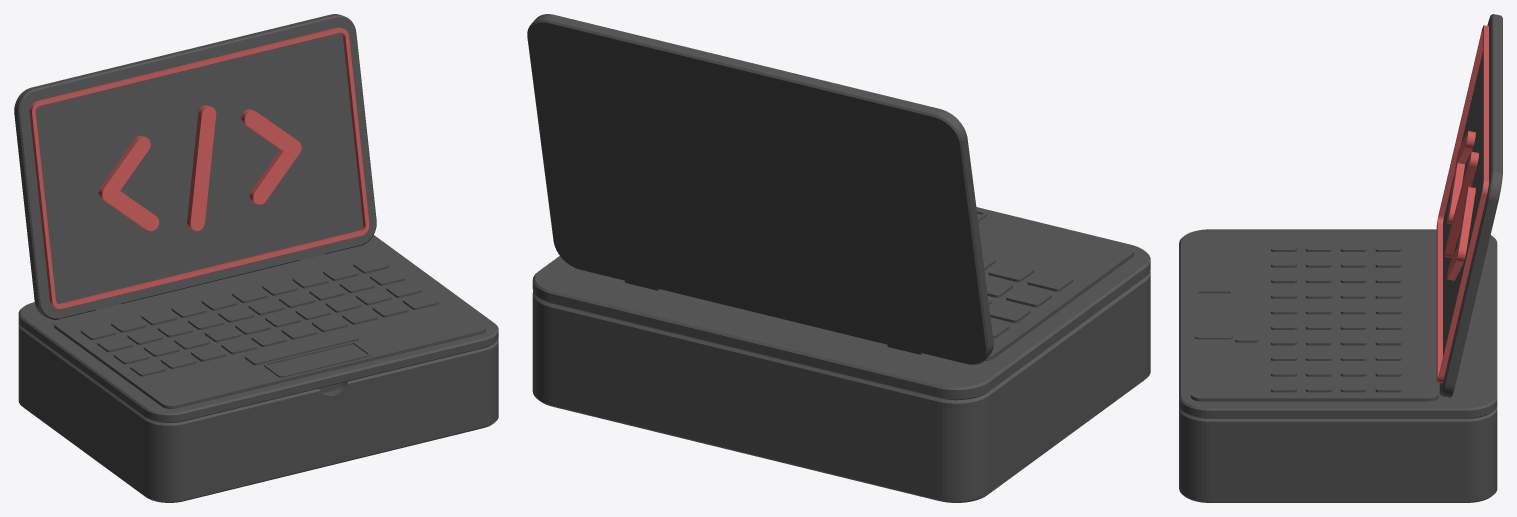
File: informatica-montato.glb
The picture shows the model from 3 angles, left to right: view 1: azimuth 30°, elevation 25°; view 2: azimuth 150°, elevation 25°; view 3: azimuth 270°, elevation 25°; orthographic projection. The views are drawn at different scales.
Visible parts, largest first — view 1: 03_schermo, 02b_placca_tastiera, 01_vaschetta, 02_coperchio_tastiera, 04_cornice_schermo, 05_simbolo_codice_02, 05_simbolo_codice_03, 05_simbolo_codice_01; view 2: 03_schermo, 01_vaschetta, 02_coperchio_tastiera, 02b_placca_tastiera; view 3: 02b_placca_tastiera, 01_vaschetta, 02_coperchio_tastiera, 03_schermo, 04_cornice_schermo, 05_simbolo_codice_02, 05_simbolo_codice_03, 05_simbolo_codice_01.
Boxes of the visible parts, bbox=[...] form: 03_schermo: bbox=[14, 14, 376, 319]; 02b_placca_tastiera: bbox=[53, 244, 485, 408]; 01_vaschetta: bbox=[18, 323, 498, 502]; 02_coperchio_tastiera: bbox=[18, 235, 498, 422]; 04_cornice_schermo: bbox=[29, 27, 369, 308]; 05_simbolo_codice_02: bbox=[187, 105, 216, 230]; 05_simbolo_codice_03: bbox=[241, 109, 301, 204]; 05_simbolo_codice_01: bbox=[98, 135, 159, 231]; 03_schermo: bbox=[527, 14, 993, 364]; 01_vaschetta: bbox=[532, 271, 1150, 502]; 02_coperchio_tastiera: bbox=[532, 207, 1150, 400]; 02b_placca_tastiera: bbox=[976, 209, 1133, 361]; 02b_placca_tastiera: bbox=[1190, 232, 1438, 401]; 01_vaschetta: bbox=[1179, 405, 1497, 502]; 02_coperchio_tastiera: bbox=[1179, 229, 1497, 418]; 03_schermo: bbox=[1439, 14, 1502, 397]; 04_cornice_schermo: bbox=[1436, 25, 1488, 383]; 05_simbolo_codice_02: bbox=[1444, 151, 1478, 257]; 05_simbolo_codice_03: bbox=[1447, 186, 1475, 280]; 05_simbolo_codice_01: bbox=[1447, 131, 1475, 224].
Size of the model in its own units: 0.11 by 0.0911 by 0.0834.
